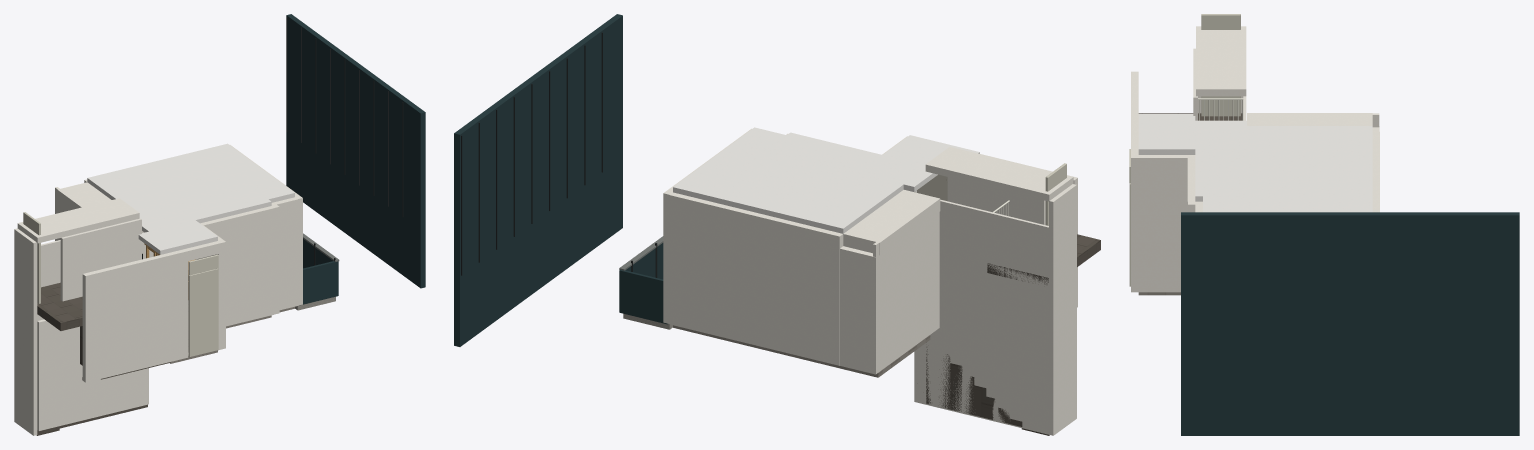
File: gpt_6_2_sol_reconstruction.glb
3 views of the same model, side by side, from view 1: azimuth 30°, elevation 25°; view 2: azimuth 150°, elevation 25°; view 3: azimuth 270°, elevation 25° (orthographic). The views are drawn at different scales.
Parts seen in each view (by area): view 1: 30 Exterior context | visible beyond window, 15 Stair flights and dividing wall, 09 Hall wall and apartment door opening, 02 Ceiling | removable for editing, 07 Radiator wall, 16 Stair upper landing and guardrail | visible portion, 13 Interior door | closed, 29 Balcony | visible exterior approximation, 05 Window-side return, 10 Kitchen alcove | soffit and reveals, 06 Shallow wall jog, 04 Exterior wall with measured apertures; view 2: 30 Exterior context | visible beyond window, 15 Stair flights and dividing wall, 03 Dining wall, 02 Ceiling | removable for editing, 10 Kitchen alcove | soffit and reveals, 16 Stair upper landing and guardrail | visible portion, 29 Balcony | visible exterior approximation, 04 Exterior wall with measured apertures, 01 Main floor | rectified ceramic tile; view 3: 30 Exterior context | visible beyond window, 02 Ceiling | removable for editing, 08 Landing return, 16 Stair upper landing and guardrail | visible portion, 10 Kitchen alcove | soffit and reveals, 09 Hall wall and apartment door opening, 03 Dining wall, 15 Stair flights and dividing wall, 07 Radiator wall.
Part boxes in pixels (<box>): 30 Exterior context | visible beyond window: <box>286,14,425,288</box>; 15 Stair flights and dividing wall: <box>14,218,170,435</box>; 09 Hall wall and apartment door opening: <box>82,241,225,382</box>; 02 Ceiling | removable for editing: <box>87,143,294,254</box>; 07 Radiator wall: <box>195,206,274,326</box>; 16 Stair upper landing and guardrail | visible portion: <box>17,198,139,330</box>; 13 Interior door | closed: <box>188,254,218,356</box>; 29 Balcony | visible exterior approximation: <box>295,233,339,310</box>; 05 Window-side return: <box>273,197,297,310</box>; 10 Kitchen alcove | soffit and reveals: <box>55,182,111,240</box>; 06 Shallow wall jog: <box>271,202,279,314</box>; 04 Exterior wall with measured apertures: <box>230,145,302,305</box>; 30 Exterior context | visible beyond window: <box>454,14,622,346</box>; 15 Stair flights and dividing wall: <box>914,177,1076,435</box>; 03 Dining wall: <box>669,192,843,365</box>; 02 Ceiling | removable for editing: <box>673,127,979,233</box>; 10 Kitchen alcove | soffit and reveals: <box>840,190,940,374</box>; 16 Stair upper landing and guardrail | visible portion: <box>925,147,1100,284</box>; 29 Balcony | visible exterior approximation: <box>619,236,672,329</box>; 04 Exterior wall with measured apertures: <box>663,128,751,323</box>; 01 Main floor | rectified ceramic tile: <box>673,325,930,377</box>; 30 Exterior context | visible beyond window: <box>1181,212,1519,435</box>; 02 Ceiling | removable for editing: <box>1138,114,1372,212</box>; 08 Landing return: <box>1131,155,1195,292</box>; 16 Stair upper landing and guardrail | visible portion: <box>1138,14,1246,120</box>; 10 Kitchen alcove | soffit and reveals: <box>1247,113,1379,131</box>; 09 Hall wall and apartment door opening: <box>1131,71,1138,291</box>; 03 Dining wall: <box>1372,131,1379,212</box>; 15 Stair flights and dividing wall: <box>1193,48,1246,120</box>; 07 Radiator wall: <box>1187,158,1195,211</box>.
Size of the model in its own units: 9.36 by 5.46 by 6.51.
40 materials, 10 textured.
